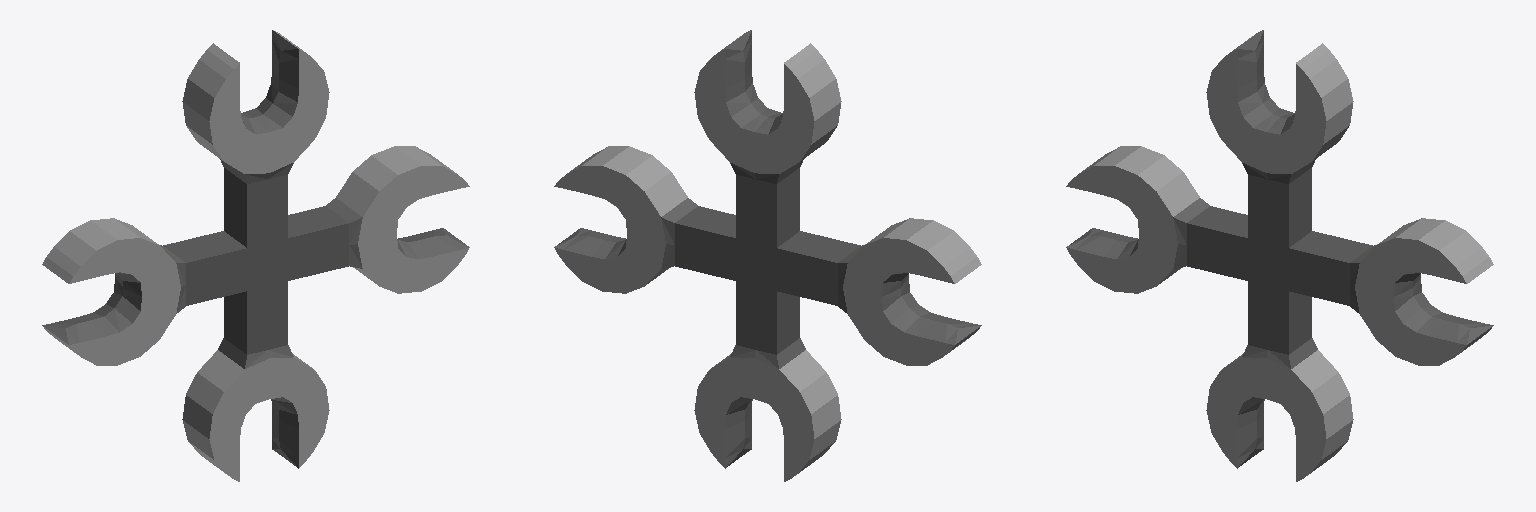
3 views of the same model, side by side, from view 1: azimuth 30°, elevation 25°; view 2: azimuth 150°, elevation 25°; view 3: azimuth 330°, elevation 25° (orthographic).
Parts seen in each view (by area): view 1: Cube.001_Cube.003; view 2: Cube.001_Cube.003; view 3: Cube.001_Cube.003.
Part boxes in pixels (bbox=[...]): Cube.001_Cube.003: bbox=[42, 30, 469, 481]; Cube.001_Cube.003: bbox=[554, 30, 981, 481]; Cube.001_Cube.003: bbox=[1066, 30, 1493, 481].
Bounding box in the file's own units: 5.98 × 5.98 × 0.6963.
Materials: 1 (1 with a texture image).